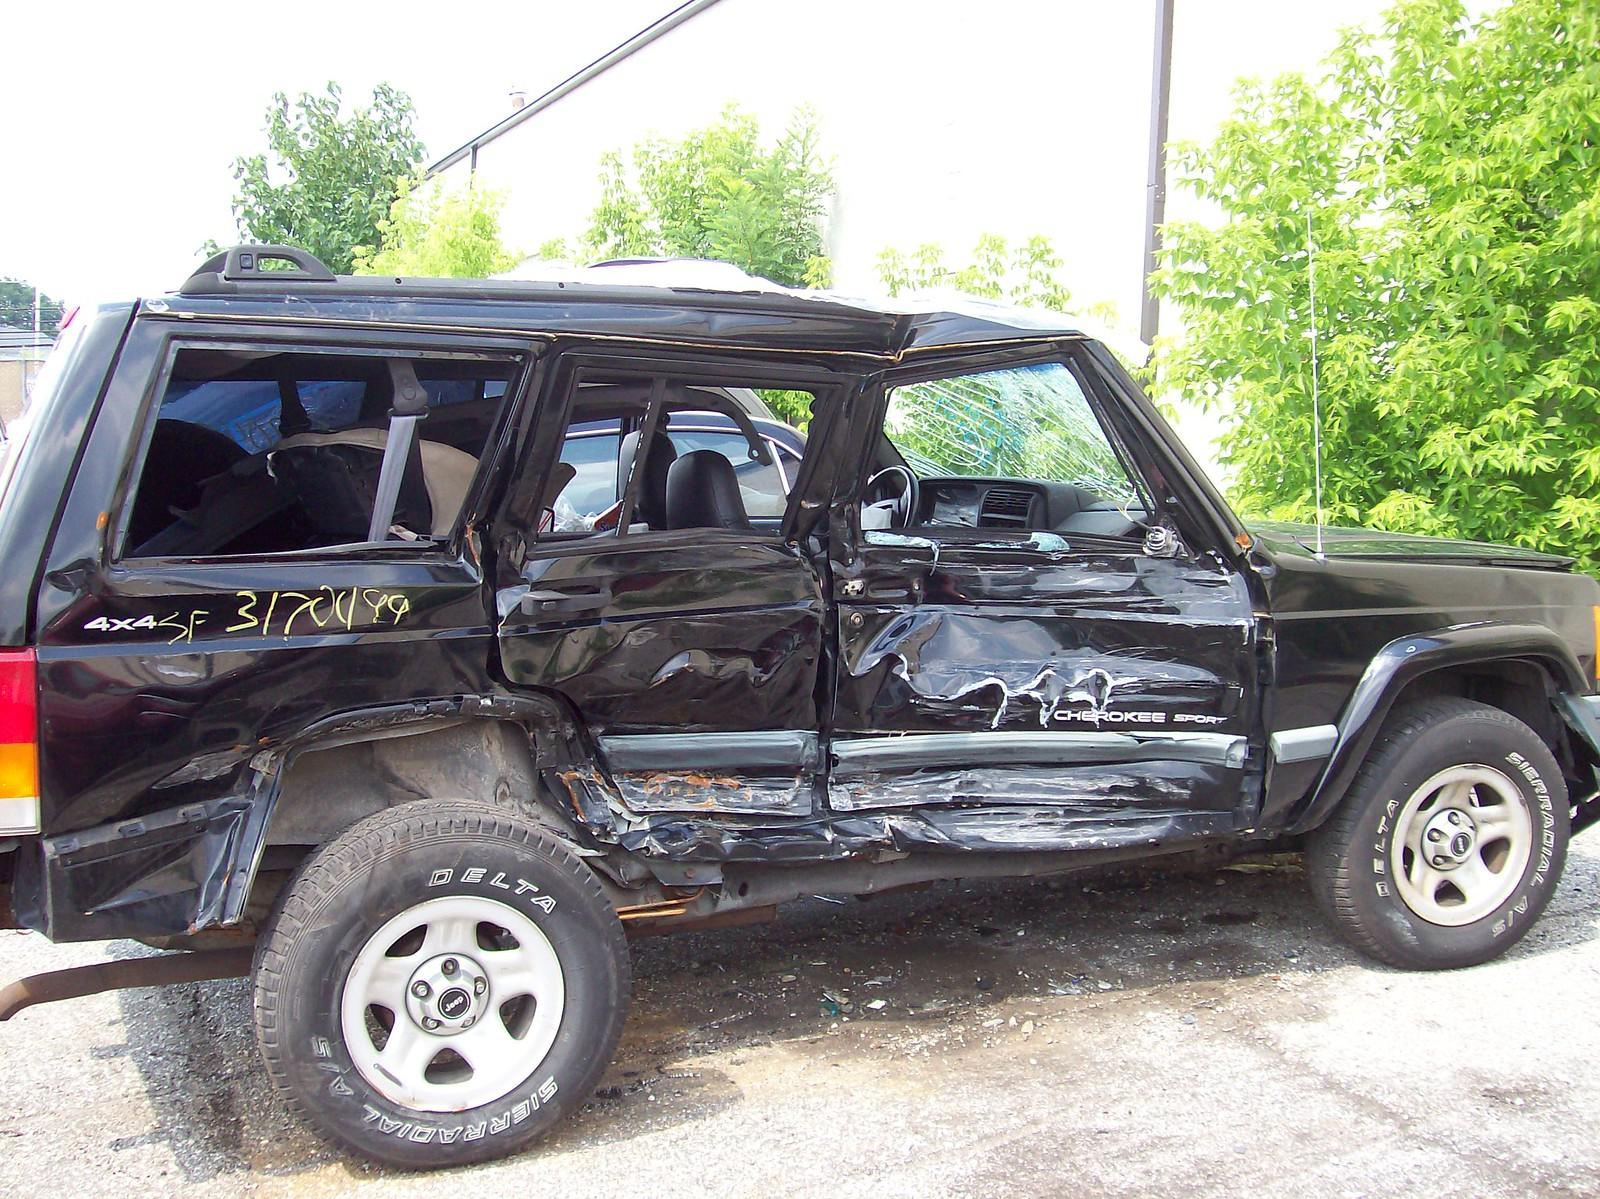RunningBoard-Dent: (548, 777, 1243, 920)
doorouter-dent: (848, 313, 1263, 863), (515, 317, 851, 926)
quaterpanel-dent: (51, 576, 536, 953)
roof-dent: (85, 260, 1094, 349)
